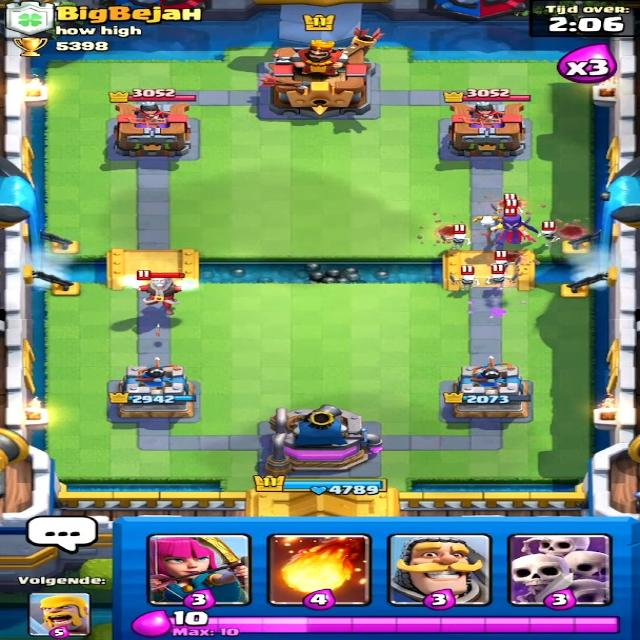Enemy_Ice_Wizard_Troop: (118, 272, 196, 312)
Enemy_Skeleton_Troop: (446, 267, 486, 293), (539, 219, 562, 251), (486, 270, 513, 291), (444, 228, 471, 247)
Enemy_Witch_Troop: (482, 215, 534, 247)
Fireball_Card: (268, 536, 366, 606)
